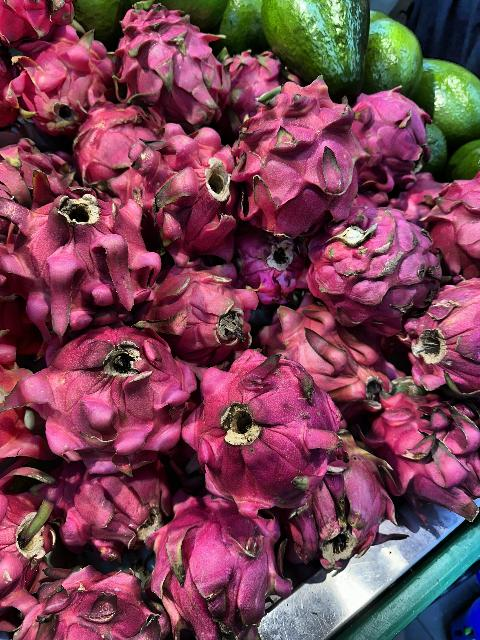buah-naga-matang: (19, 321, 192, 473), (181, 356, 342, 510), (0, 177, 164, 317), (233, 88, 369, 226), (157, 500, 291, 634), (112, 131, 248, 257), (317, 202, 447, 326), (378, 367, 480, 523), (109, 3, 233, 125), (278, 297, 396, 417), (288, 446, 390, 570), (34, 457, 163, 547), (26, 558, 162, 640), (134, 264, 255, 356), (7, 31, 113, 128), (350, 90, 439, 178), (404, 294, 480, 394)
